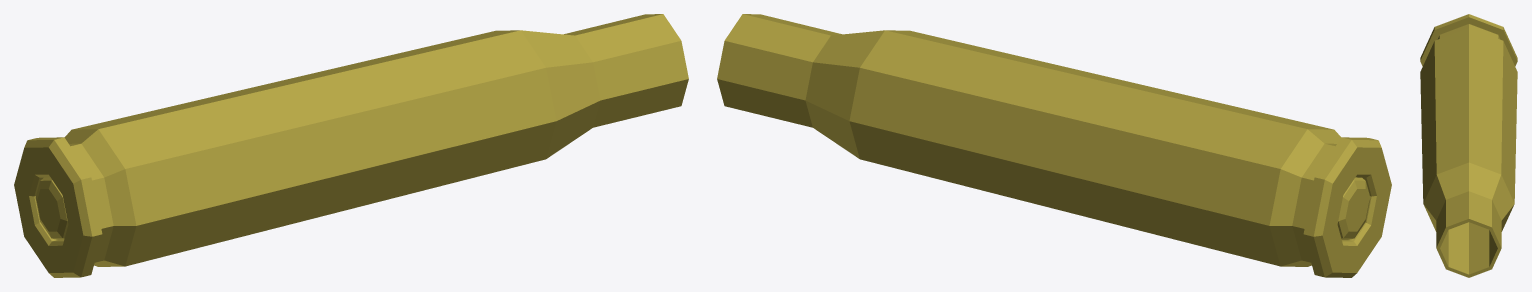
Rendered from shell.glb.
3 renders of one model, left to right at view 1: azimuth 30°, elevation 25°; view 2: azimuth 150°, elevation 25°; view 3: azimuth 270°, elevation 25°, orthographic. The views are drawn at different scales.
Parts seen in each view (by area): view 1: Object_38; view 2: Object_38; view 3: Object_38.
Boxes of the visible parts, x1=… form: Object_38: x1=14, y1=14, x2=688, y2=277; Object_38: x1=717, y1=14, x2=1391, y2=277; Object_38: x1=1420, y1=14, x2=1517, y2=277.
Size of the model in its own units: 0.447 by 0.096 by 0.096.
